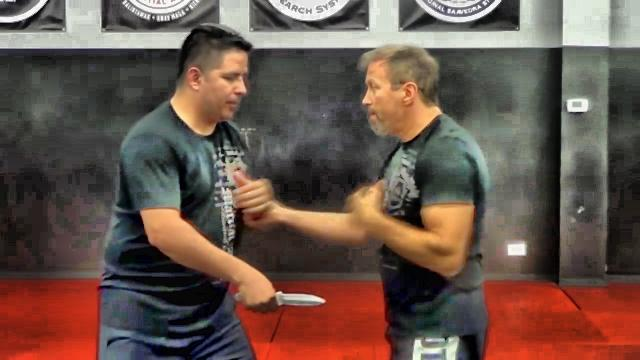knife: (230, 282, 334, 313)
